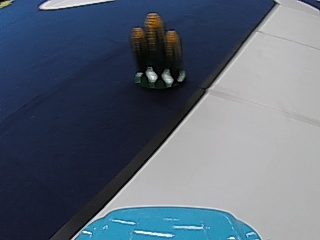corn: (129, 9, 185, 91)
